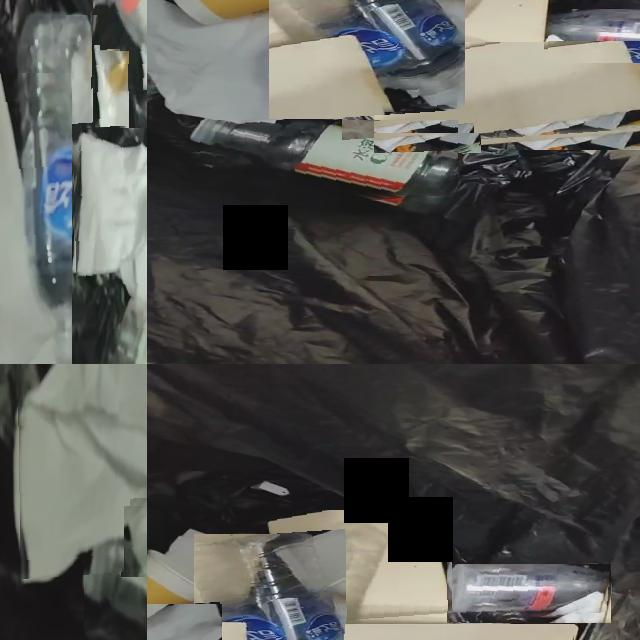bottle: (18, 15, 99, 364), (193, 120, 458, 201), (287, 0, 465, 111), (195, 534, 343, 640), (447, 564, 610, 619), (548, 9, 640, 62)
carton: (343, 42, 640, 146), (269, 510, 452, 621), (385, 0, 549, 56)
dixie_cup: (147, 551, 213, 622), (172, 0, 305, 25)
paper: (18, 364, 147, 579), (147, 0, 298, 128), (0, 81, 61, 364), (76, 134, 147, 304), (95, 52, 128, 149), (374, 133, 480, 153), (124, 506, 147, 576), (451, 602, 503, 624), (544, 36, 591, 60)
